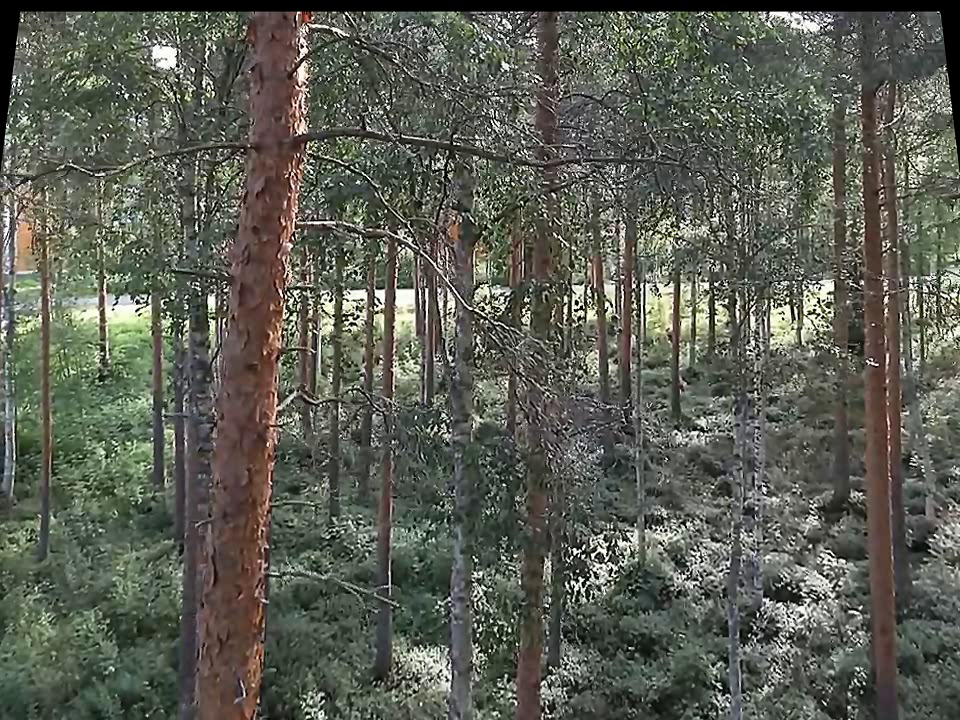branch: (306, 118, 625, 175), (302, 210, 478, 309), (1, 132, 241, 194), (273, 560, 398, 611), (282, 384, 383, 418), (160, 258, 232, 291)
trunk: (184, 13, 308, 716), (854, 113, 915, 717), (443, 233, 479, 710), (365, 250, 402, 693), (504, 495, 548, 715), (31, 246, 58, 564), (86, 236, 122, 385)
